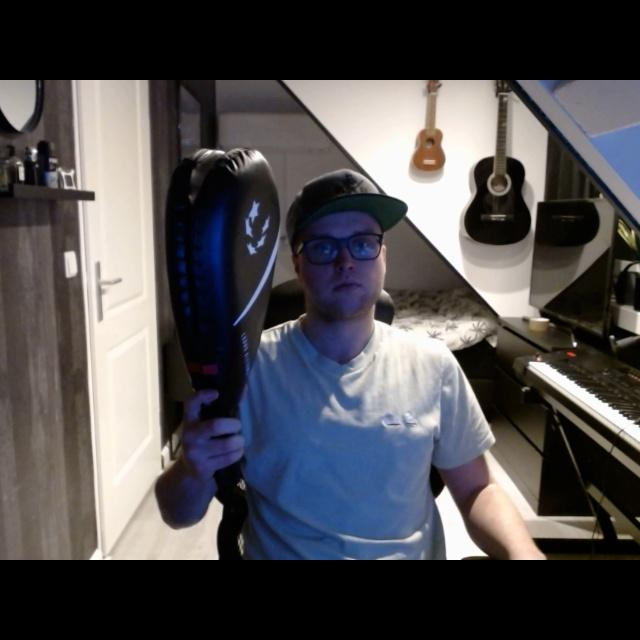paddle: (160, 139, 283, 423)
